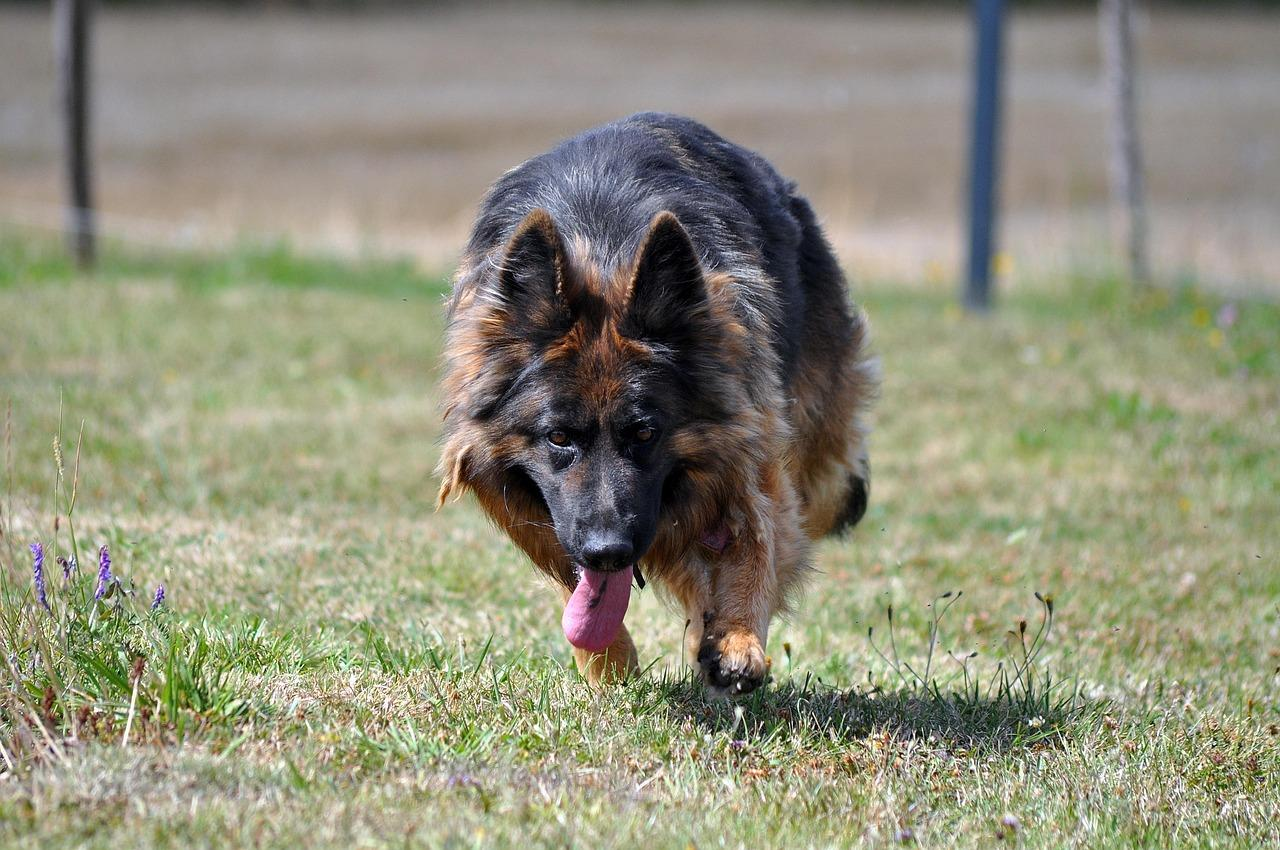german_shepherd: (446, 206, 732, 612)
